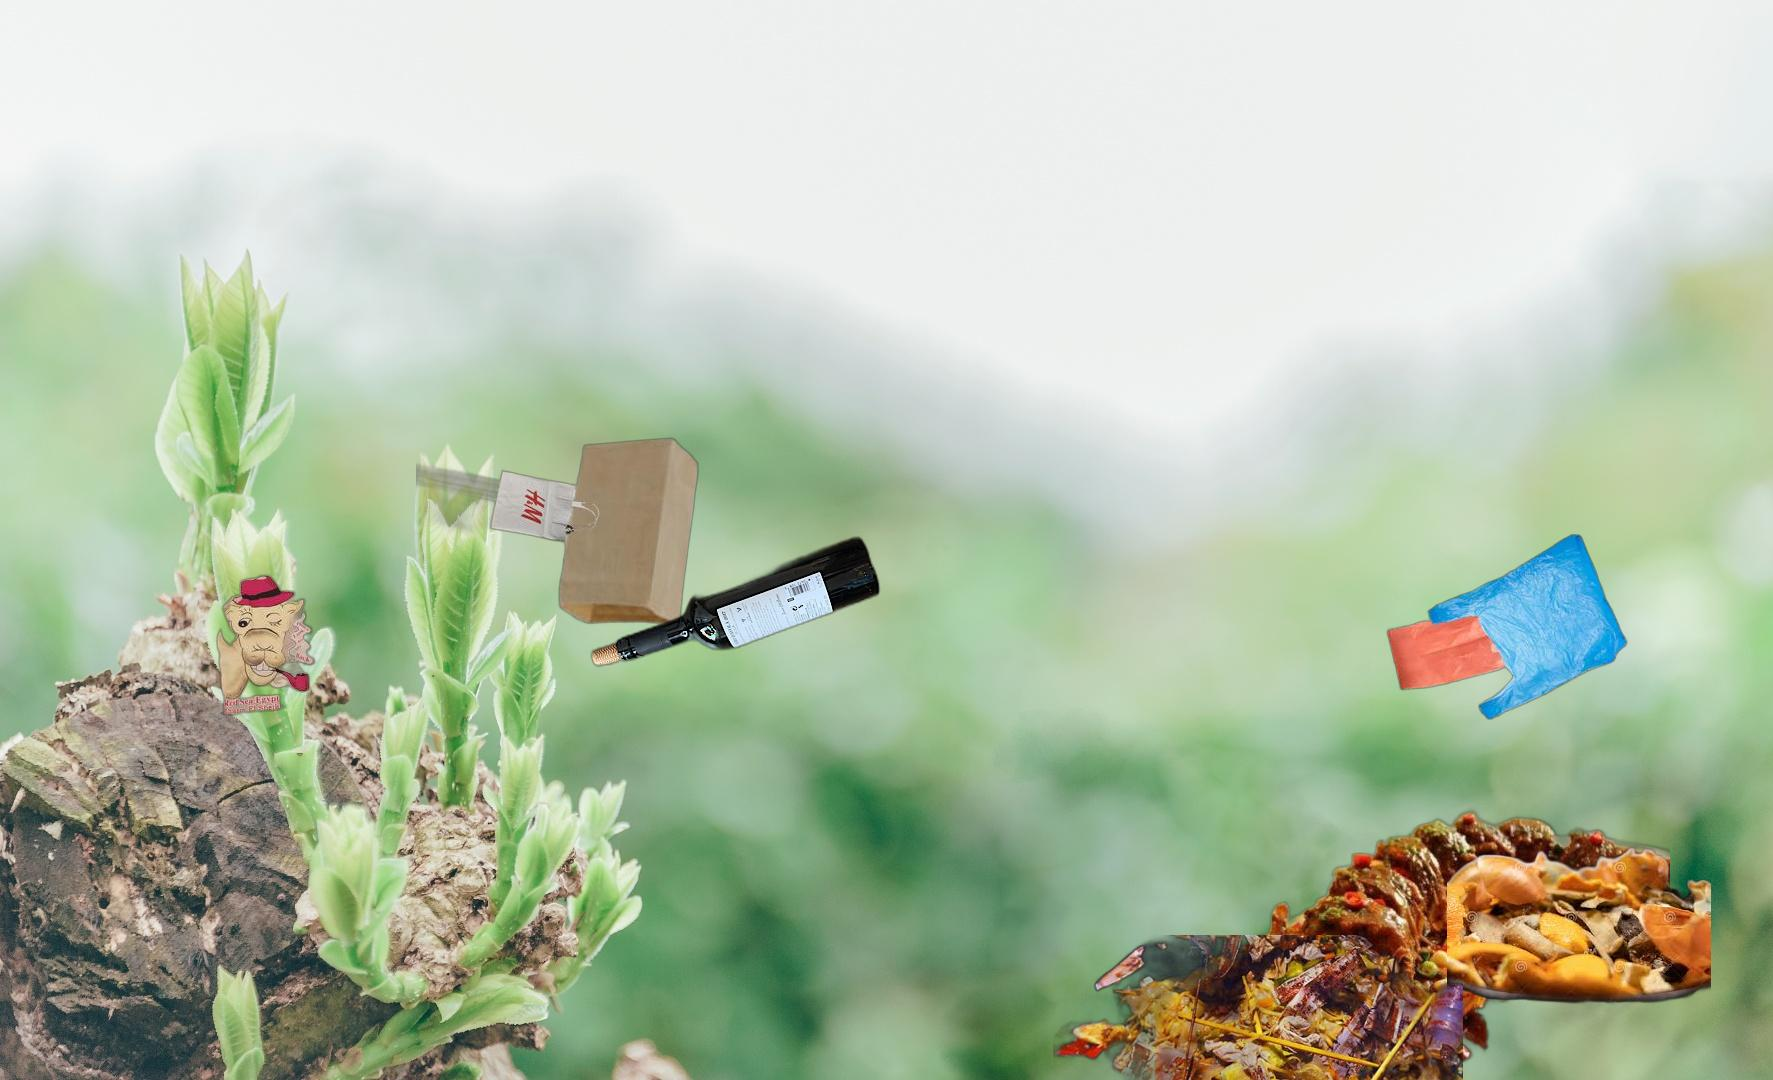biological: (1154, 799, 1670, 1080), (1053, 935, 1463, 1080), (1447, 843, 1711, 1014)
clothes: (213, 571, 319, 719)
glass: (587, 532, 884, 672)
paper-bag: (416, 436, 700, 628)
plastic-bag: (1386, 531, 1630, 721)
